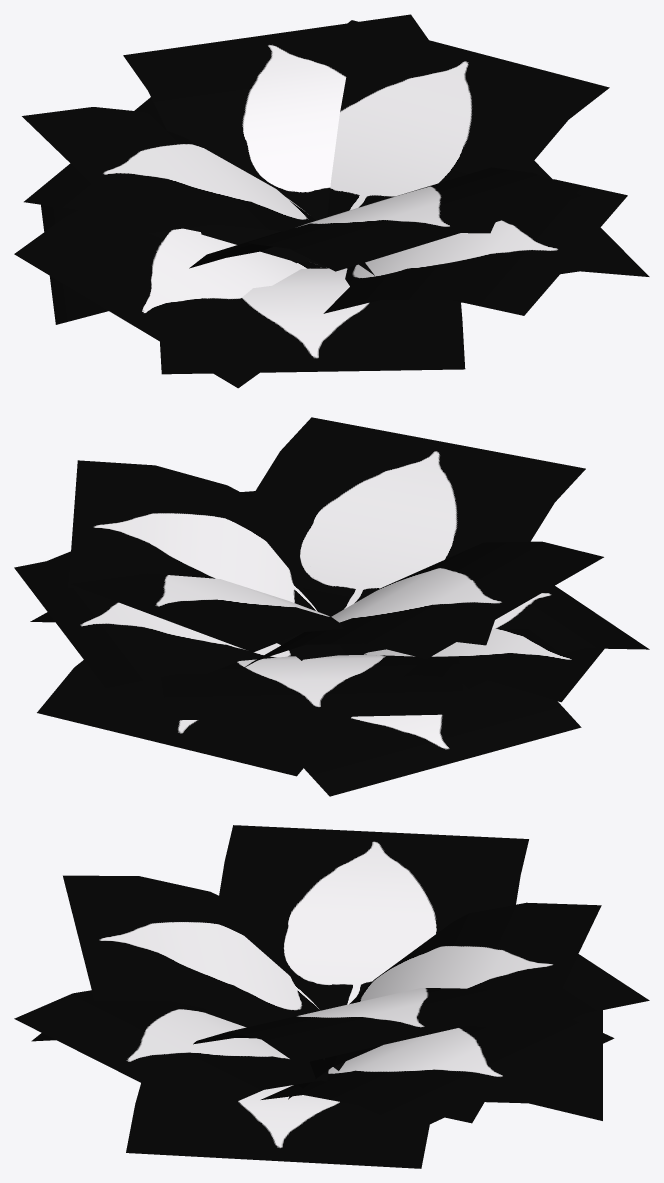
The model's file is Plant 1.fbx.
The picture shows the model from 3 angles, top to bottom: view 1: azimuth 30°, elevation 25°; view 2: azimuth 150°, elevation 25°; view 3: azimuth 270°, elevation 25°; orthographic projection.
Visible parts, largest first — view 1: Plane012, Plane011, Plane003, Plane010, Plane009, Plane007, Plane008, Plane005, Plane002, Plane004; view 2: Plane008, Plane012, Plane010, Plane005, Plane004, Plane001, Plane006, Plane011, Plane009, Plane003; view 3: Plane010, Plane008, Plane007, Plane006, Plane002, Plane011, Plane012, Plane001, Plane005.
Part boxes in pixels (left/top/right/bottom): Plane012: left=327, top=20, right=609, bottom=233; Plane011: left=123, top=14, right=428, bottom=263; Plane003: left=157, top=267, right=465, bottom=374; Plane010: left=22, top=107, right=374, bottom=275; Plane009: left=14, top=198, right=321, bottom=388; Plane007: left=323, top=179, right=627, bottom=315; Plane008: left=189, top=167, right=580, bottom=271; Plane005: left=24, top=97, right=316, bottom=264; Plane002: left=526, top=160, right=649, bottom=276; Plane004: left=41, top=204, right=108, bottom=324; Plane008: left=244, top=417, right=585, bottom=655; Plane012: left=68, top=460, right=345, bottom=660; Plane010: left=244, top=541, right=603, bottom=667; Plane005: left=161, top=654, right=465, bottom=720; Plane004: left=285, top=680, right=581, bottom=796; Plane001: left=37, top=660, right=351, bottom=776; Plane006: left=14, top=561, right=295, bottom=688; Plane011: left=28, top=551, right=343, bottom=652; Plane009: left=362, top=629, right=604, bottom=702; Plane003: left=462, top=586, right=649, bottom=688; Plane010: left=205, top=825, right=528, bottom=1027; Plane008: left=63, top=875, right=345, bottom=1070; Plane007: left=14, top=990, right=328, bottom=1115; Plane006: left=261, top=1010, right=614, bottom=1131; Plane002: left=126, top=1083, right=429, bottom=1168; Plane011: left=288, top=902, right=601, bottom=1099; Plane012: left=193, top=988, right=559, bottom=1064; Plane001: left=478, top=1010, right=602, bottom=1120; Plane005: left=551, top=954, right=649, bottom=1018.
Size of the model in its own units: 81.96 by 22.85 by 84.06.
